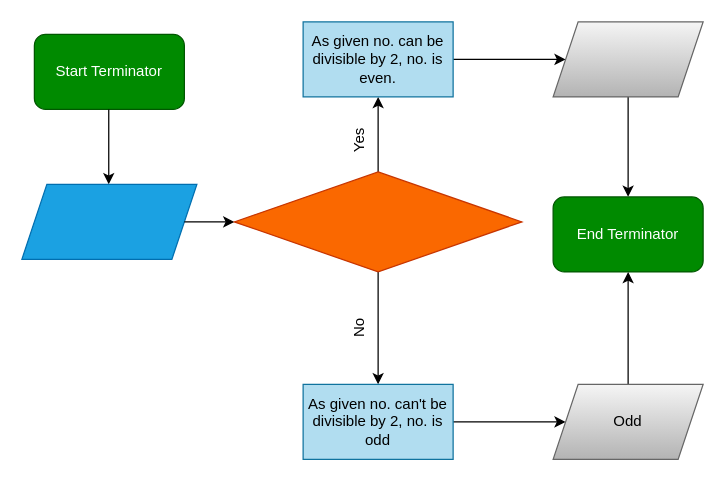
The diagram is 725 pixels wide and 481 high, and some of its shapes have lost their labels. Each missing label, with the centre of its shape:
Check if the No. is Divisible By 2: (x=377, y=221)
Even: (x=627, y=59)
Input the No. Asked: (x=109, y=221)
